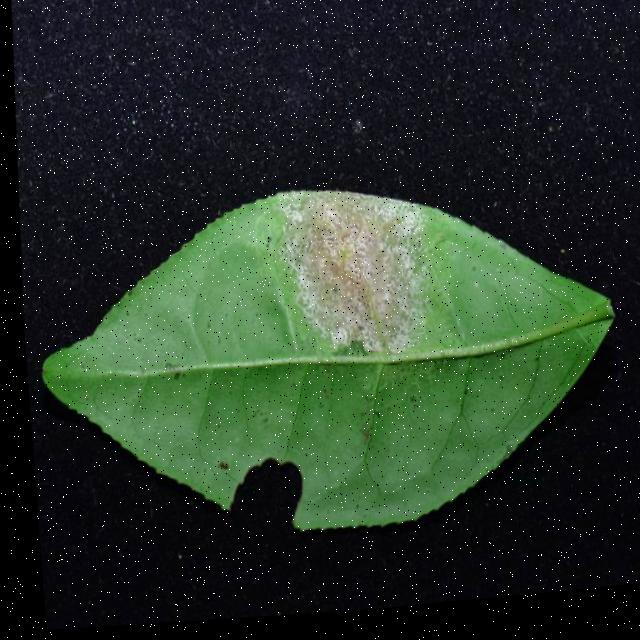Tea exobasidium blight: (260, 179, 437, 373)
